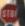Stop sign: (0, 0, 24, 25)
